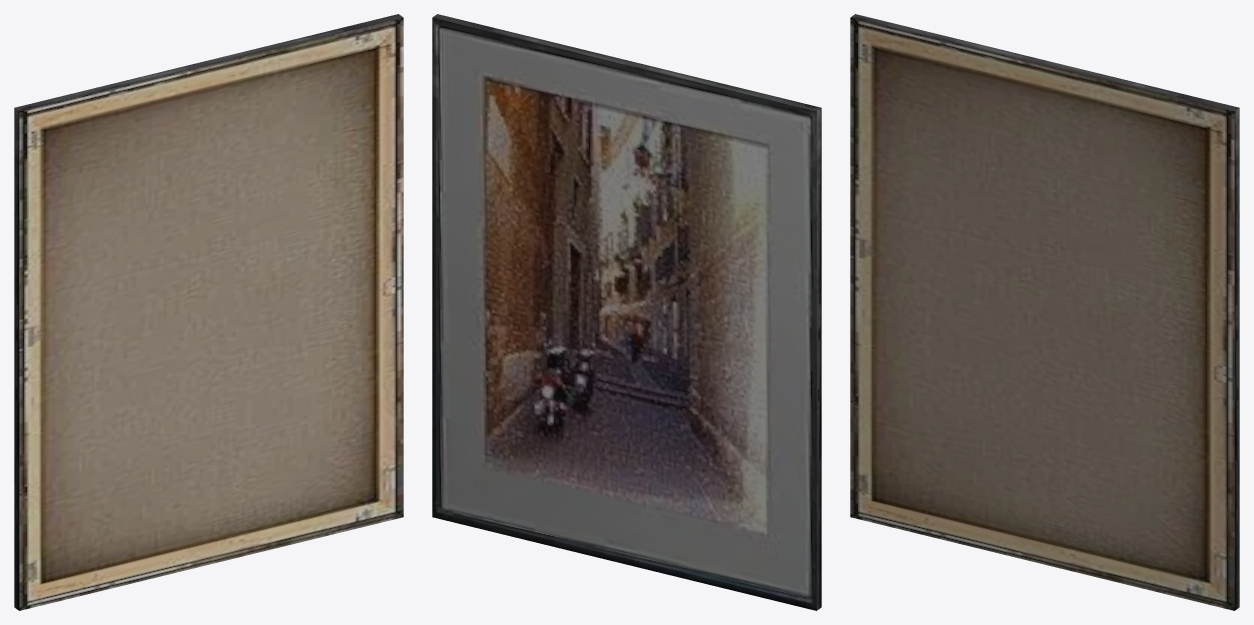
File: offpaintingb.glb
The picture shows the model from 3 angles, left to right: view 1: azimuth 30°, elevation 25°; view 2: azimuth 150°, elevation 25°; view 3: azimuth 330°, elevation 25°; orthographic projection.
Visible parts, largest first — view 1: 0_Poster_backing, 1_offpaintingb; view 2: 1_offpaintingb; view 3: 0_Poster_backing, 1_offpaintingb.
Part boxes in pixels (bbox=[...]): 0_Poster_backing: bbox=[19, 17, 403, 610]; 1_offpaintingb: bbox=[14, 14, 402, 610]; 1_offpaintingb: bbox=[432, 14, 821, 610]; 0_Poster_backing: bbox=[850, 17, 1234, 610]; 1_offpaintingb: bbox=[851, 14, 1239, 610].
Bounding box in the file's own units: 0.7847 × 0.9744 × 0.0178.
Materials: 2 (2 with a texture image).
